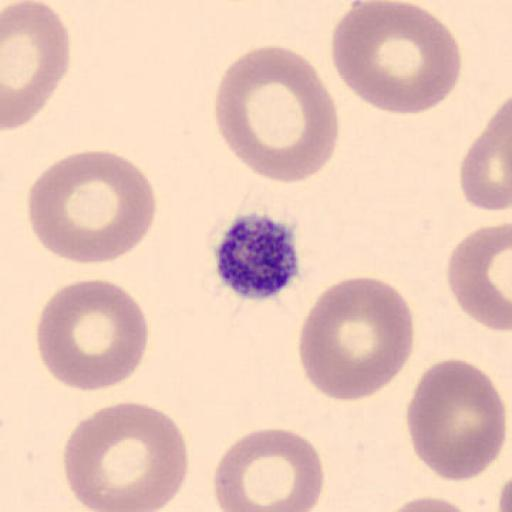Platelet: (210, 210, 303, 302)
RBC: (213, 44, 340, 186), (25, 149, 158, 266), (329, 0, 463, 116), (297, 275, 416, 403), (62, 400, 190, 512), (35, 277, 150, 393), (406, 357, 506, 485), (213, 426, 325, 512), (2, 0, 71, 130), (446, 222, 512, 332), (458, 96, 512, 213), (380, 493, 477, 512), (498, 468, 512, 512)
